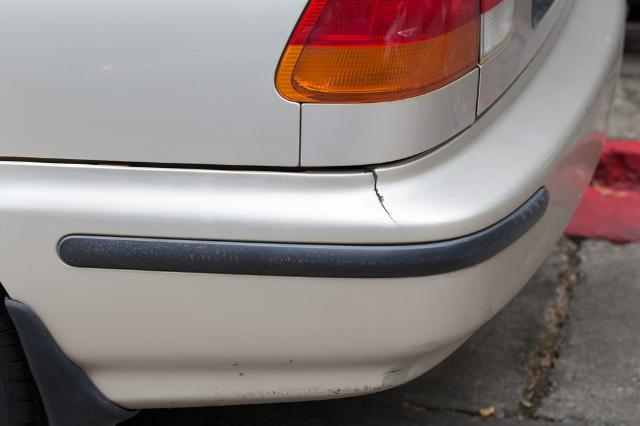crack: (368, 171, 401, 234)
